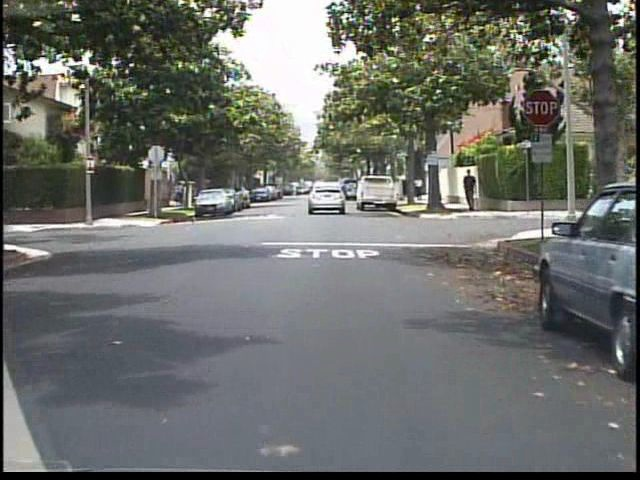person: (461, 166, 481, 215), (173, 179, 190, 208), (414, 172, 426, 202)
